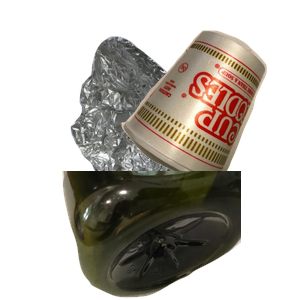glass: (77, 178, 205, 300)
metal: (68, 34, 300, 214)
plastic: (60, 171, 300, 300)
trash: (119, 28, 300, 207)
